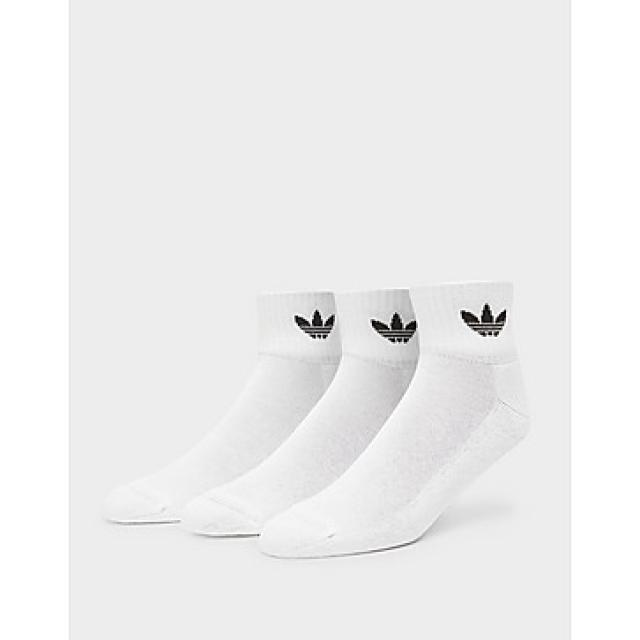sock: (257, 278, 529, 559), (178, 286, 420, 538), (102, 289, 342, 526)
